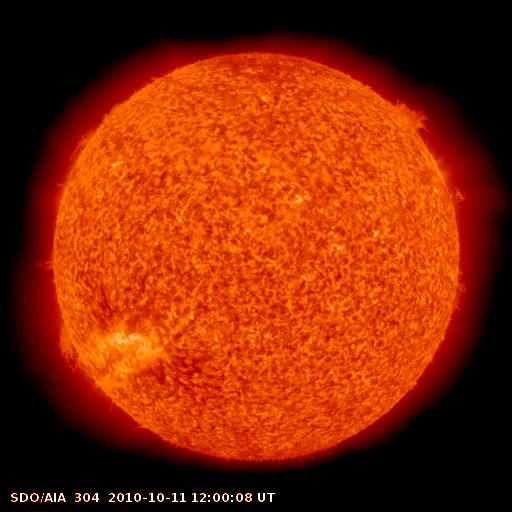prominence: (382, 89, 443, 147), (63, 108, 108, 174), (43, 311, 88, 371), (25, 235, 71, 286), (441, 265, 473, 312), (434, 174, 471, 213)
